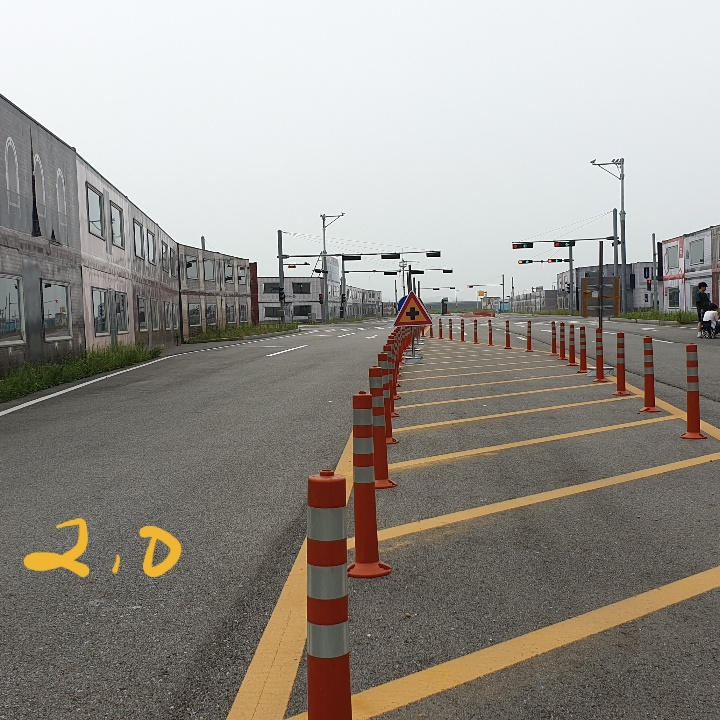inter: (404, 305, 421, 324)
